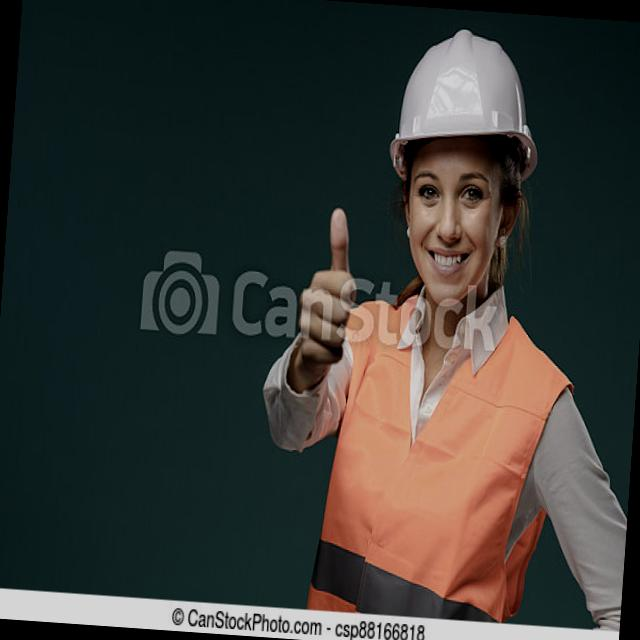helmet: (386, 20, 548, 199)
no-goggles: (405, 156, 507, 218)
vest: (297, 301, 596, 625)
